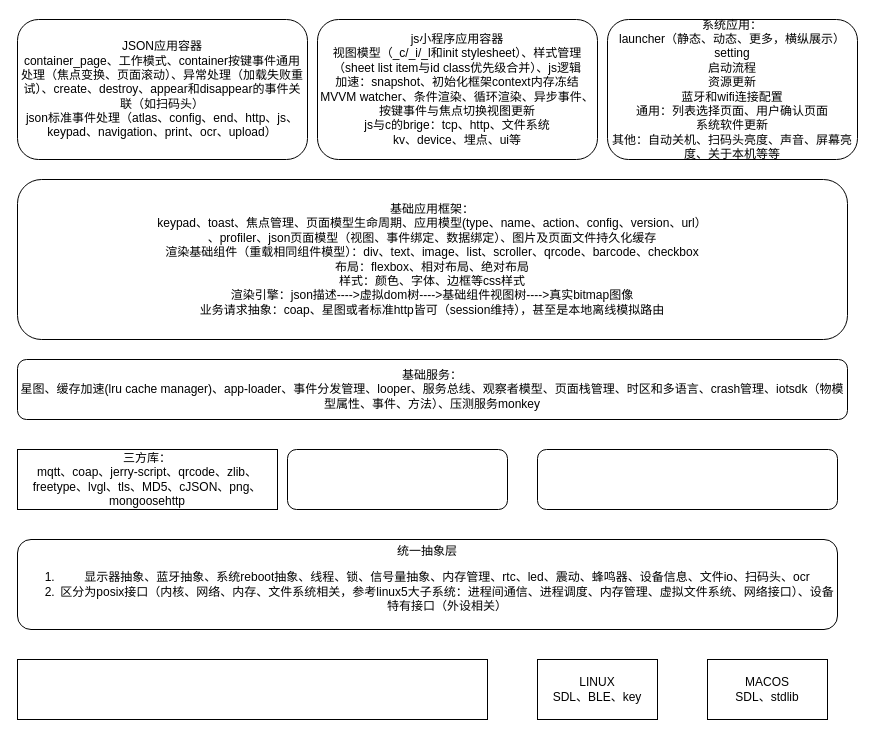
Some shapes in this 875 by 737 pixel diagram are drawn without their labels. The box of each missing label's shape, as (x1, y1, x2, y2) in pixels:
RTOS wifi、蓝牙、按键、led、spi屏、蜂鸣器、陀螺仪 little fs、kv、kmalloc、ota、低功耗、watchdog: (16, 658, 488, 720)
基础数据结构 链表、队列、循环队列、map、vector: (536, 448, 838, 510)
自建库： httpclient(cookie manager)、kv、ocr、tracklog、memorysniff: (286, 448, 508, 510)
